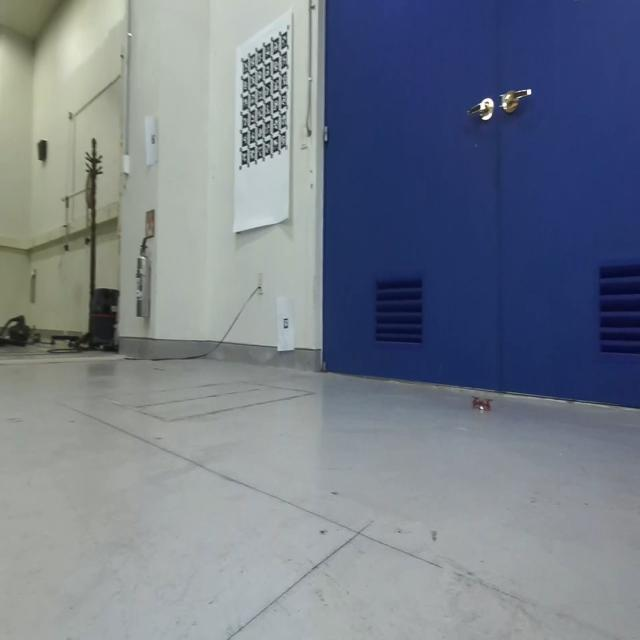crazyflie: (470, 393, 494, 413)
